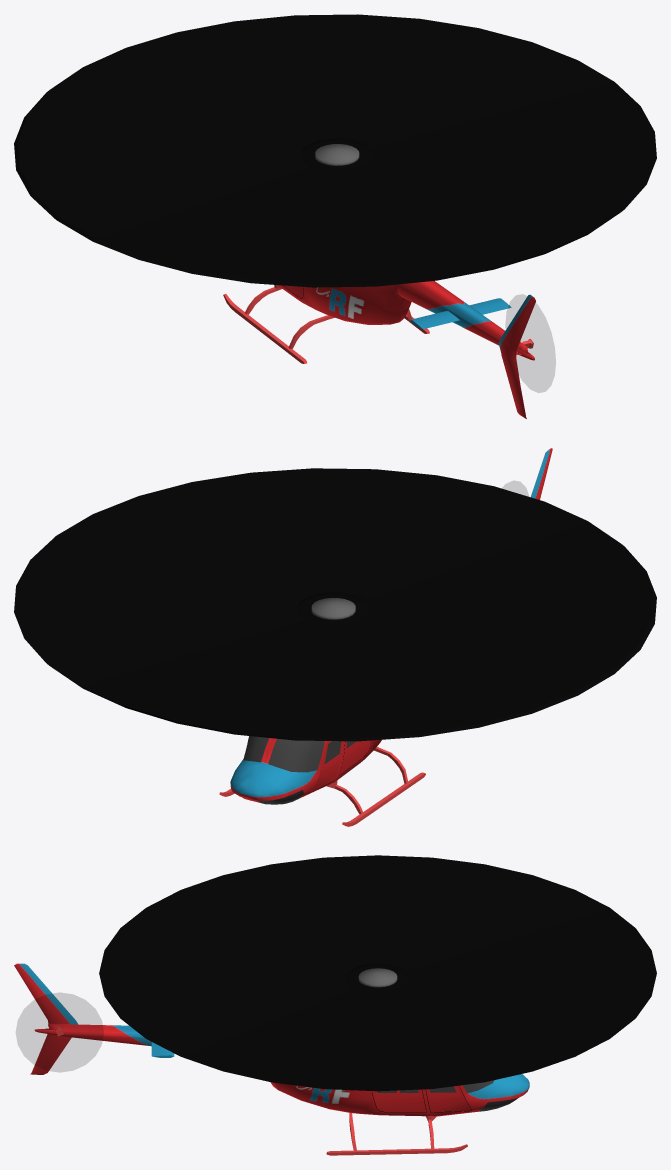
File: heli.glb
3 renders of one model, top to bottom at view 1: azimuth 30°, elevation 25°; view 2: azimuth 150°, elevation 25°; view 3: azimuth 270°, elevation 25°, orthographic. The views are drawn at different scales.
Parts seen in each view (by area): view 1: Cone, Layer:0_Material #25_0.006, Cylinder.003, Cylinder.001, Layer:0__0, Cylinder.002; view 2: Cone, Layer:0_Material #25_0.006, Layer:0_01 - Default_0, Cylinder.001, Layer:0__0, Cylinder.002; view 3: Cone, Layer:0_Material #25_0.006, Cylinder.003, Cylinder.001, Layer:0__0, Layer:0_01 - Default_0, Cylinder.002.
Part boxes in pixels (x1,y1,x2,y2): Cone: (14, 14, 656, 287); Layer:0_Material #25_0.006: (277, 281, 535, 418); Cylinder.003: (506, 294, 555, 392); Cylinder.001: (302, 138, 372, 170); Layer:0__0: (223, 285, 533, 363); Cylinder.002: (315, 144, 359, 165); Cone: (14, 468, 656, 741); Layer:0_Material #25_0.006: (230, 448, 552, 803); Layer:0_01 - Default_0: (243, 736, 356, 804); Cylinder.001: (298, 592, 368, 624); Layer:0__0: (219, 746, 425, 826); Cylinder.002: (311, 598, 355, 619); Cone: (99, 855, 656, 1091); Layer:0_Material #25_0.006: (14, 963, 529, 1116); Cylinder.003: (16, 993, 103, 1071); Cylinder.001: (347, 963, 408, 991); Layer:0__0: (56, 1026, 467, 1155); Layer:0_01 - Default_0: (377, 1080, 518, 1111); Cylinder.002: (358, 968, 397, 987).
Bounding box in the file's own units: 156 × 49.41 × 179.
8 materials, 1 textured.
